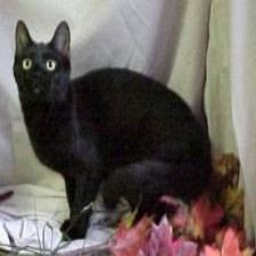cat: (10, 17, 215, 235)
